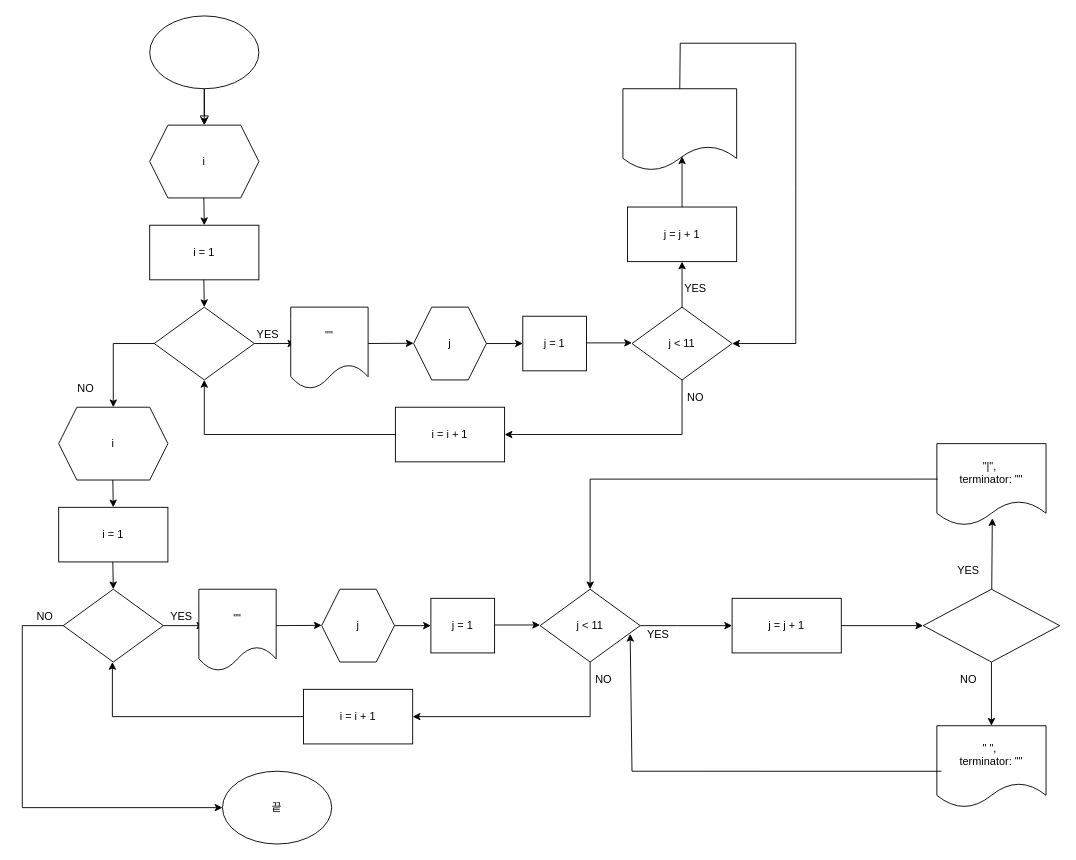
The diagram is 1076 pixels wide and 860 high, and some of its shapes have lost their labels. The centre of each missing label's shape, as x and y in pixels:
"*", terminator: "": point (679, 129)
i < 5: point (112, 625)
i < 8: point (203, 343)
j == 5 || j == 7: point (991, 625)
시작: point (204, 52)
